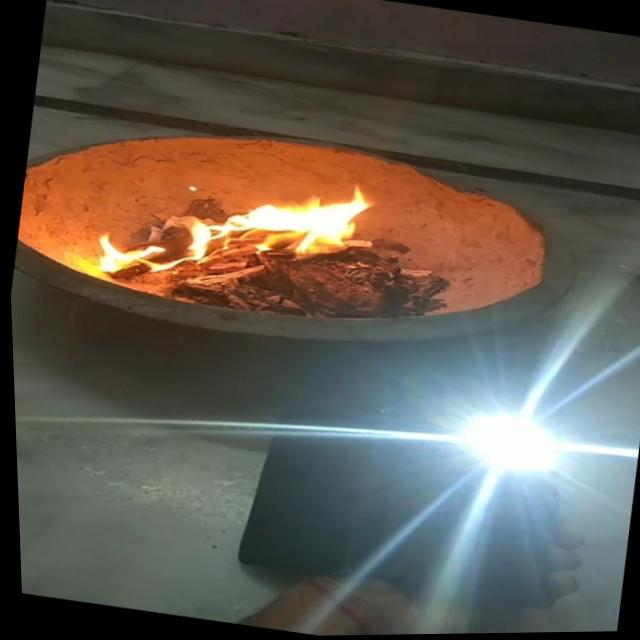fire: (86, 142, 388, 318)
